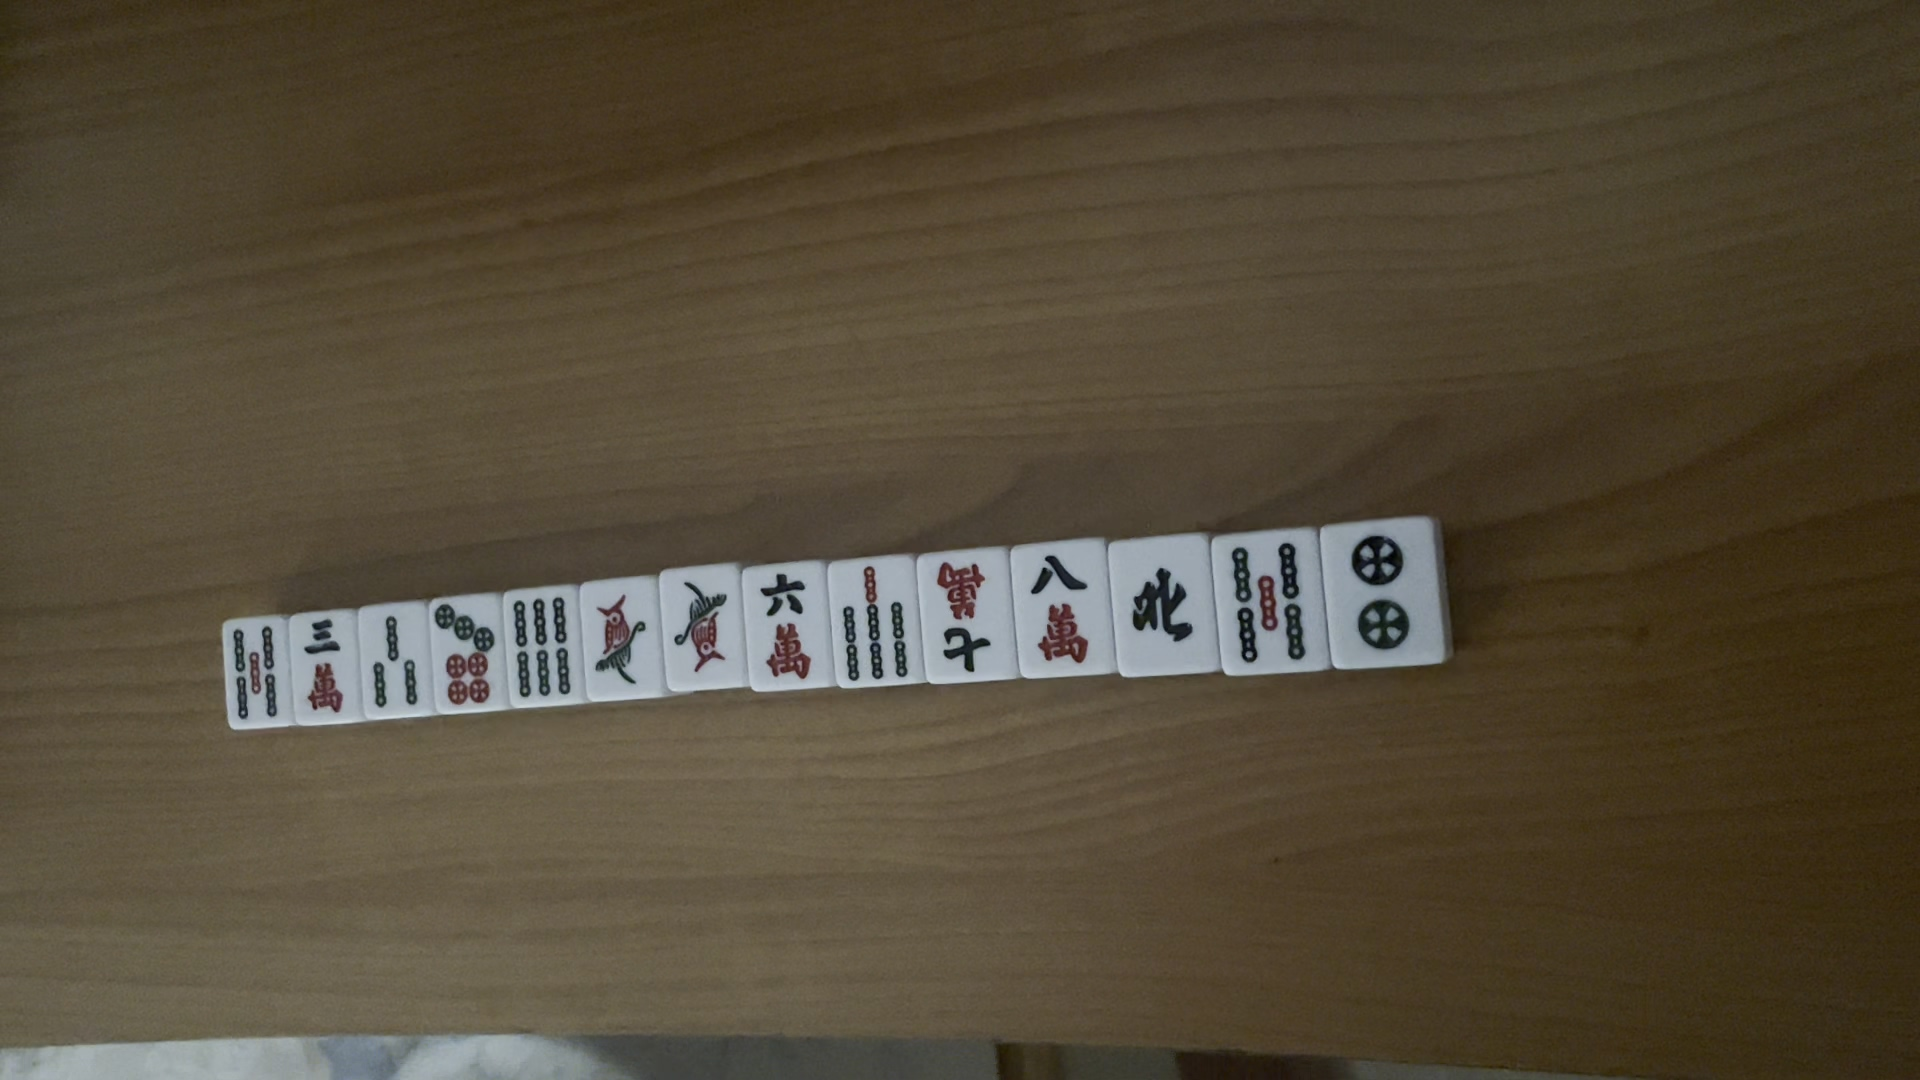b-1: (669, 575, 735, 682), (585, 595, 651, 683)
b-3: (367, 615, 422, 713)
b-5: (1222, 534, 1309, 670), (225, 618, 281, 724)
b-6: (509, 593, 576, 702)
b-7: (833, 564, 918, 683)
c-3: (297, 618, 353, 717)
c-6: (754, 570, 819, 683)
c-7: (926, 556, 1000, 679)
c-8: (1023, 550, 1100, 673)
d-2: (1341, 530, 1416, 659)
d-7: (431, 599, 500, 709)
honors-north: (1124, 553, 1200, 659)
